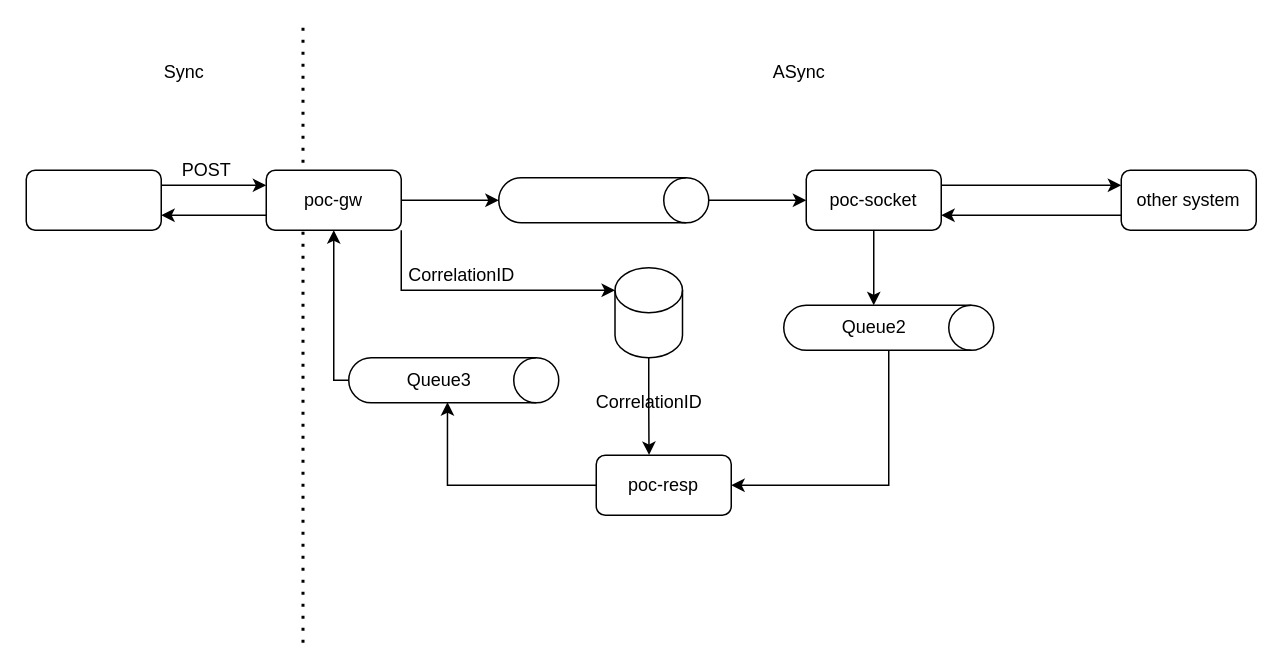
Image size: 1283x671. Some labels were removed from this diagram. The shapes that lost their labels are listed below. From the top down, each one's box as (x1, y1, x2, y2) in pixels, then its label:
(25, 169, 161, 230): APP
(497, 176, 709, 223): Queue1
(614, 266, 682, 358): Redis
